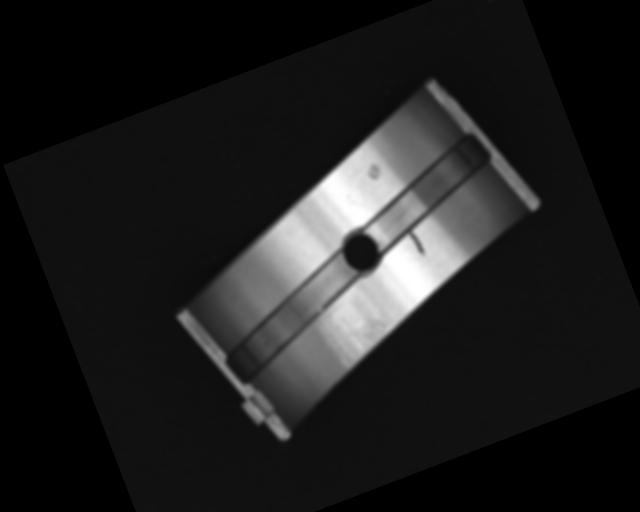bruise: (363, 161, 385, 183)
gap: (208, 249, 378, 381), (347, 132, 505, 249)
hole: (336, 226, 386, 276)
nick: (406, 227, 428, 261)
scratch: (320, 296, 399, 381)
